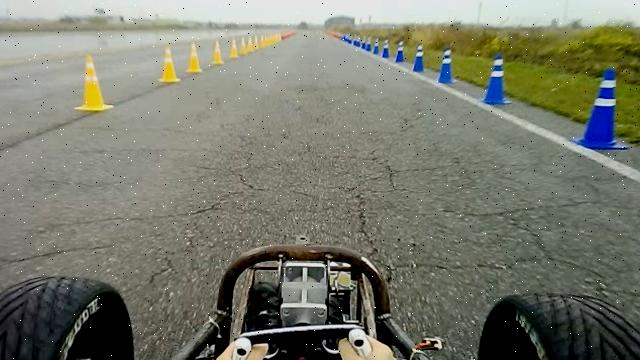blue cone: (570, 67, 629, 150), (482, 52, 512, 105), (437, 48, 458, 84), (412, 43, 426, 73), (394, 40, 406, 63), (382, 38, 391, 58), (373, 38, 380, 55), (365, 36, 372, 51)
yellow cone: (74, 54, 114, 112), (158, 46, 181, 83), (186, 41, 203, 74), (212, 39, 224, 65), (230, 38, 240, 59), (239, 37, 248, 56), (247, 35, 254, 53), (253, 35, 260, 50)
